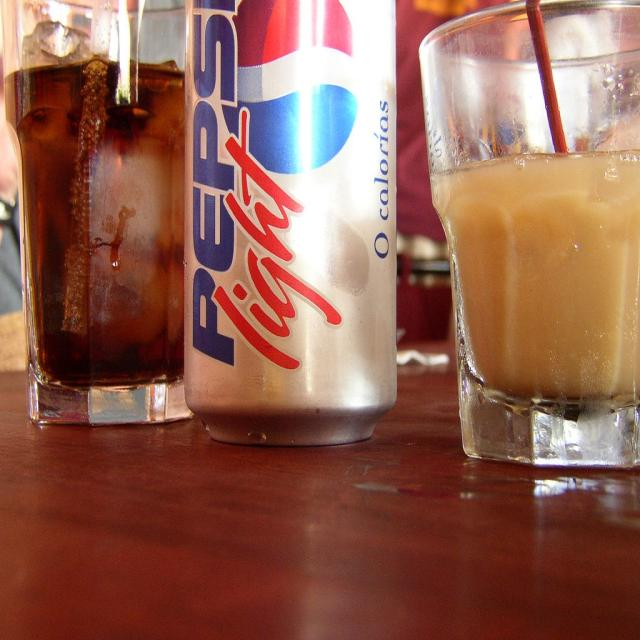pepsi: (222, 2, 364, 182)
